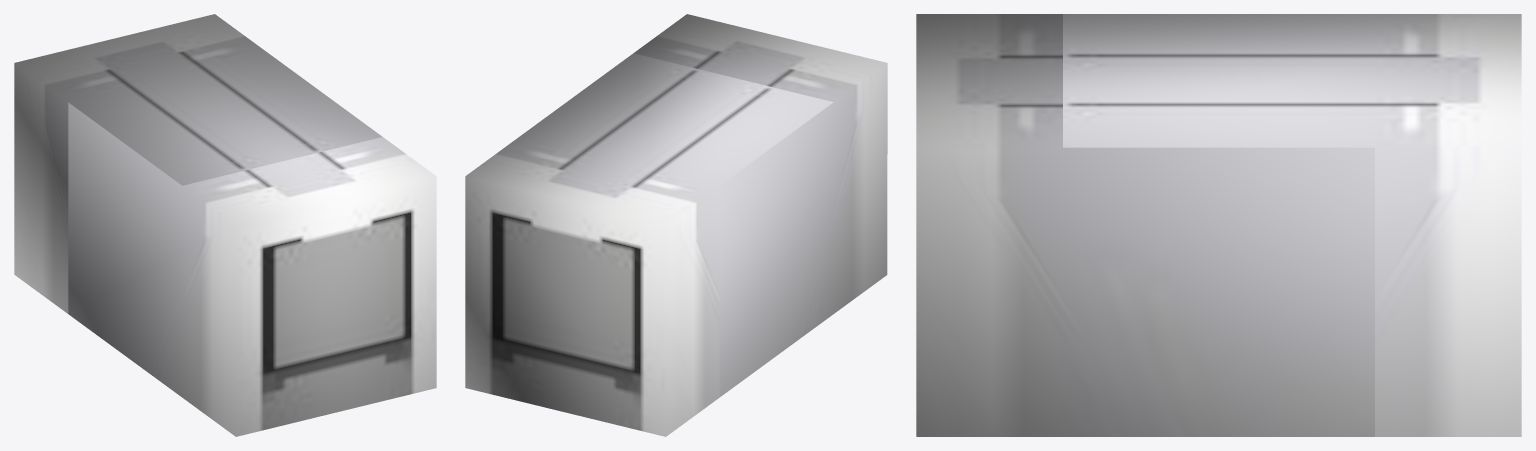
3 renders of one model, left to right at view 1: azimuth 30°, elevation 25°; view 2: azimuth 150°, elevation 25°; view 3: azimuth 270°, elevation 25°, orthographic. The views are drawn at different scales.
Visible parts, largest first — view 1: inserter-4-lod2; view 2: inserter-4-lod2; view 3: inserter-4-lod2.
Part boxes in pixels (x1=…): inserter-4-lod2: x1=14, y1=14, x2=436, y2=436; inserter-4-lod2: x1=465, y1=14, x2=887, y2=436; inserter-4-lod2: x1=916, y1=14, x2=1521, y2=436.
Size of the model in its own units: 0.99 by 1 by 1.9.
Materials: 2 (2 with a texture image).
